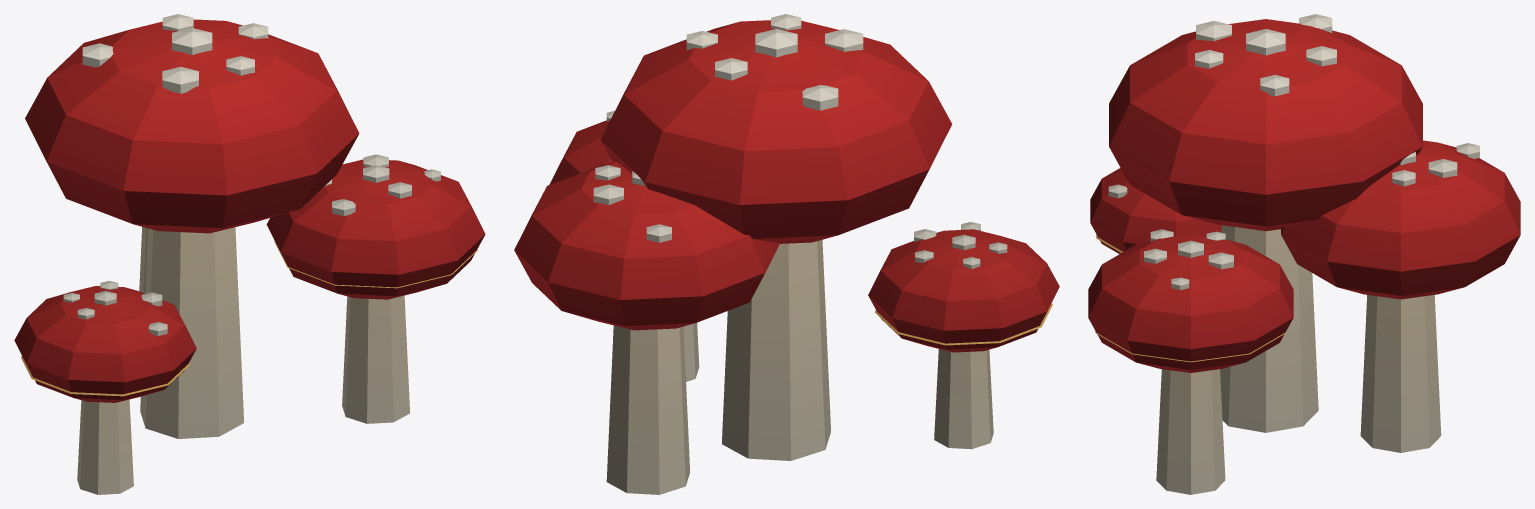
File: toadstool_cluster.glb
The picture shows the model from 3 angles, left to right: view 1: azimuth 30°, elevation 25°; view 2: azimuth 150°, elevation 25°; view 3: azimuth 270°, elevation 25°; orthographic projection. The views are drawn at different scales.
Parts seen in each view (by area): view 1: toadstool_cluster; view 2: toadstool_cluster; view 3: toadstool_cluster.
Part boxes in pixels (x1,y1,x2,y2): toadstool_cluster: [14, 14, 485, 494]; toadstool_cluster: [514, 14, 1059, 494]; toadstool_cluster: [1088, 14, 1520, 494].
Size of the model in its own units: 1.71 by 1.39 by 1.44.
